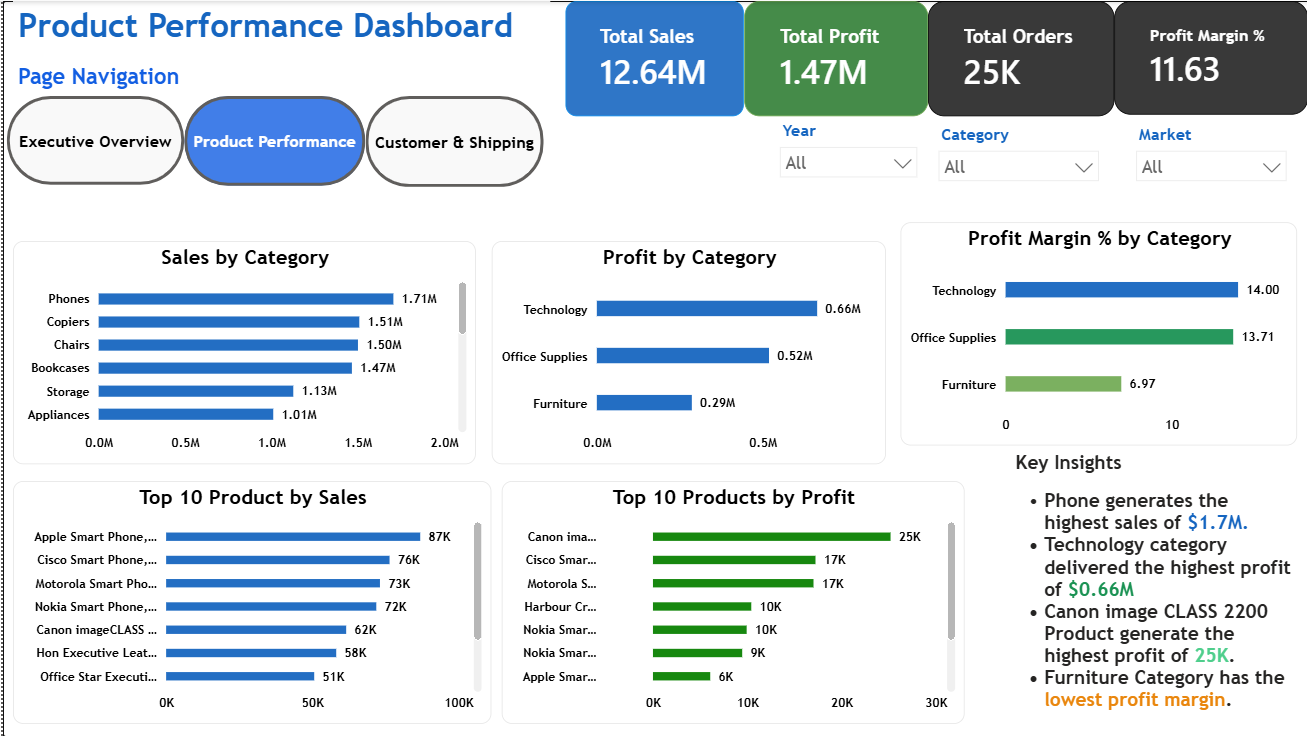

Layout of this report page (visuals, bound fields, positions):
{"tool":"powerbi","page":{"name":"Product Performance","canvas":[1280,720],"ordinal":1},"visuals":[{"type":"textbox","box":[9.6,0,525.6,65.9],"z":0},{"type":"clusteredBarChart","title":"Profit by Category","fields":{"Category":["Global_Superstore.Category"],"Y":["Sum(Global_Superstore.Profit)"]},"box":[477.5,234.6,385.6,218.2],"z":1000},{"type":"clusteredBarChart","title":"Sales by Category","fields":{"Category":["Global_Superstore.Category","Global_Superstore.Sub_Category"],"Y":["Sum(Global_Superstore.Sales)"]},"box":[9.6,234.6,452.8,218.2],"z":2000},{"type":"clusteredBarChart","title":"Top 10 Products by Profit","fields":{"Category":["Global_Superstore.Product_Name"],"Y":["Sum(Global_Superstore.Profit)"]},"box":[488.5,469.3,452.8,237.4],"z":3000},{"type":"clusteredBarChart","title":"Top 10 Product by Sales","fields":{"Y":["Sum(Global_Superstore.Sales)"],"Category":["Global_Superstore.Product_Name"]},"box":[9.6,469.3,467.9,237.4],"z":4000},{"type":"slicer","title":"Year","fields":{"Values":["Global_Superstore.Order_Date.Variation.Date Hierarchy.Year"]},"box":[749.2,112.5,155.1,68.6],"z":5000},{"type":"slicer","title":"Category","fields":{"Values":["Global_Superstore.Category"]},"box":[904.3,116.6,177,70],"z":6000},{"type":"slicer","title":"Market","fields":{"Values":["Global_Superstore.Market"]},"box":[1097.8,116.6,167.4,68.6],"z":7000},{"type":"clusteredBarChart","fields":{"Category":["Global_Superstore.Category"],"Y":["Global_Superstore.Profit Margin %"]},"box":[878.2,216.8,388.3,218.2],"z":8000},{"type":"cardVisual","title":"Total Profit","fields":{"Data":["Global_Superstore.Total Profit"]},"box":[724.5,0,179.8,112.5],"z":9000},{"type":"cardVisual","title":"Total Orders","fields":{"Data":["Global_Superstore.Total Orders"]},"box":[904.3,0,182.5,112.5],"z":10000},{"type":"cardVisual","title":"Profit Margin %","fields":{"Data":["Global_Superstore.Profit Margin %"]},"box":[1086.8,0,189.4,111.1],"z":11000},{"type":"cardVisual","fields":{"Data":["Global_Superstore.TotalSale"]},"box":[550.3,0,174.3,112.5],"z":12000},{"type":"textbox","box":[985.6,435.3,281.3,271.5],"z":13000},{"type":"actionButton","box":[177,93.3,177,87.8],"z":14000},{"type":"actionButton","box":[354,93.3,174.3,89.2],"z":15000},{"type":"textbox","box":[9.6,56.3,183.9,37],"z":16000},{"type":"actionButton","box":[3.7,92.9,173.6,86.8],"z":17000}]}

Visuals, with their boxes in screenshot pixels (x1, y1, x2, y2), scaled from the page's 1280x720 canvas onto the 1307x736 screenshot:
textbox: <box>10,0,546,67</box>
"Profit by Category" clusteredBarChart: <box>488,240,881,463</box>
"Sales by Category" clusteredBarChart: <box>10,240,472,463</box>
"Top 10 Products by Profit" clusteredBarChart: <box>499,480,961,722</box>
"Top 10 Product by Sales" clusteredBarChart: <box>10,480,488,722</box>
"Year" slicer: <box>765,115,923,185</box>
"Category" slicer: <box>923,119,1104,191</box>
"Market" slicer: <box>1121,119,1292,189</box>
clusteredBarChart - Global_Superstore.Category x Global_Superstore.Profit Margin %: <box>897,222,1293,445</box>
"Total Profit" cardVisual: <box>740,0,923,115</box>
"Total Orders" cardVisual: <box>923,0,1110,115</box>
"Profit Margin %" cardVisual: <box>1110,0,1303,114</box>
cardVisual - Global_Superstore.TotalSale: <box>562,0,740,115</box>
textbox: <box>1006,445,1294,723</box>
actionButton: <box>181,95,361,185</box>
actionButton: <box>361,95,539,187</box>
textbox: <box>10,58,198,95</box>
actionButton: <box>4,95,181,184</box>
